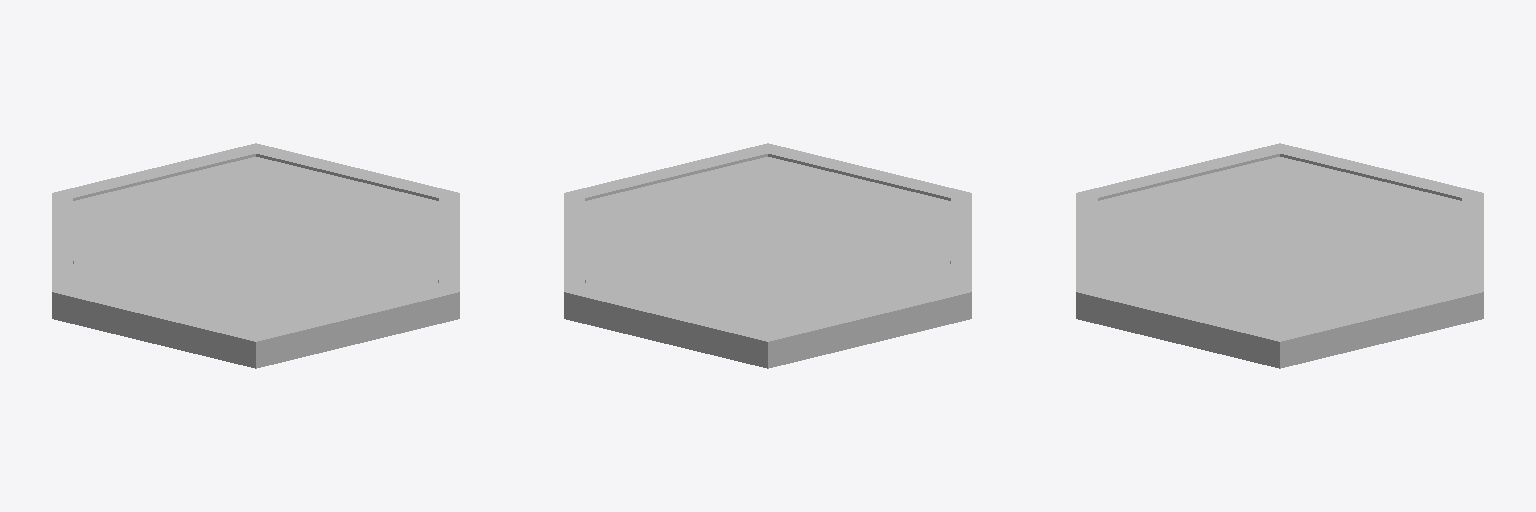
File: Board.obj
3 views of the same model, side by side, from view 1: azimuth 30°, elevation 25°; view 2: azimuth 150°, elevation 25°; view 3: azimuth 270°, elevation 25° (orthographic).
Visible parts, largest first — view 1: Plane; view 2: Plane; view 3: Plane.
Part boxes in pixels (x1,y1,x2,y2): Plane: (52,143,459,368); Plane: (564,143,971,368); Plane: (1076,143,1483,368).
Size of the model in its own units: 17.84 by 1.13 by 15.45.